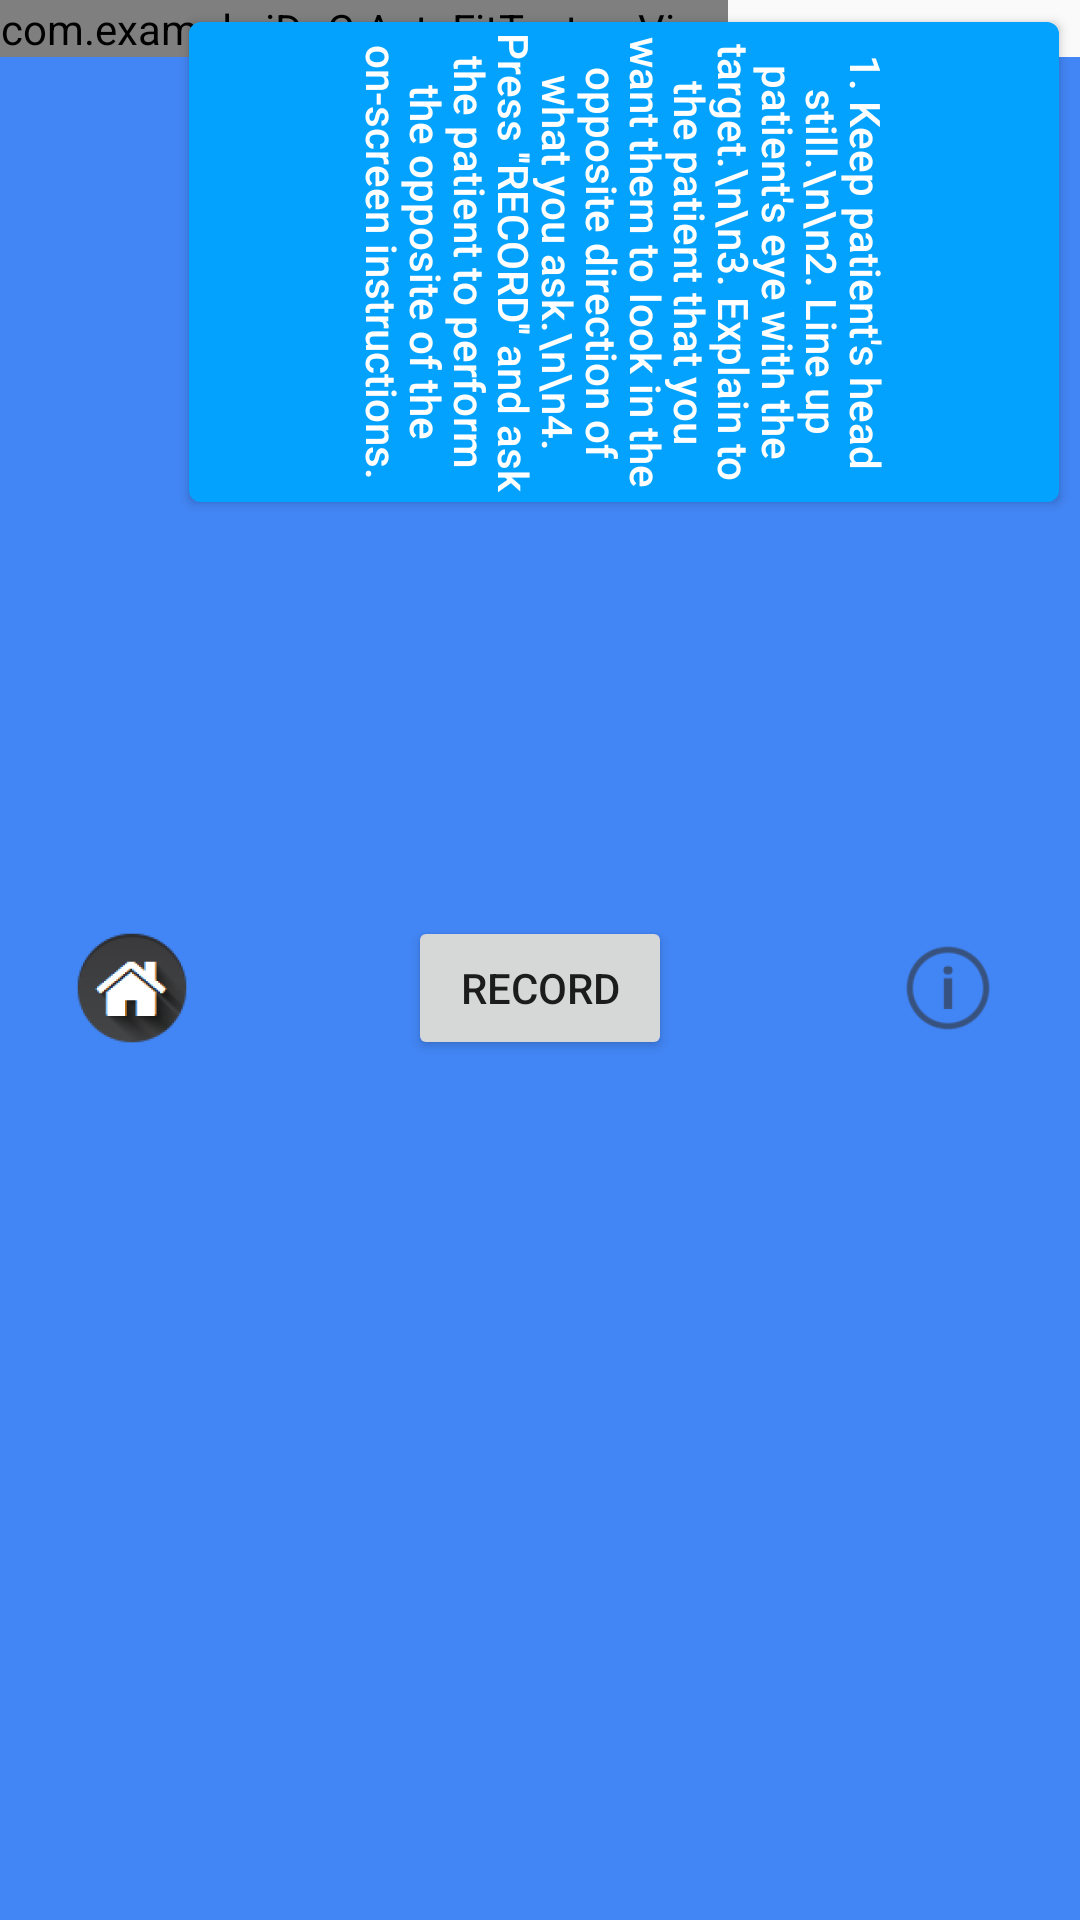

Where icons sit on this 1080px x 1920px app screen, as (x1,y1,x2,y2):
home butt: (77,933,187,1043)
info: (906,946,990,1030)
